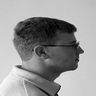ear: (31, 40, 53, 63)
